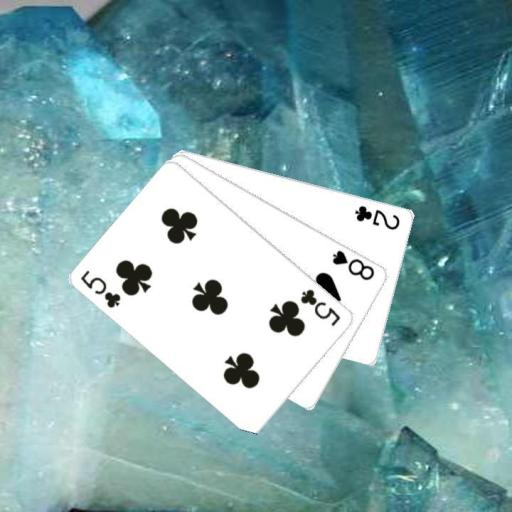2C: (352, 202, 402, 231)
5C: (297, 285, 343, 328), (78, 267, 123, 309)
8S: (329, 247, 377, 282)
